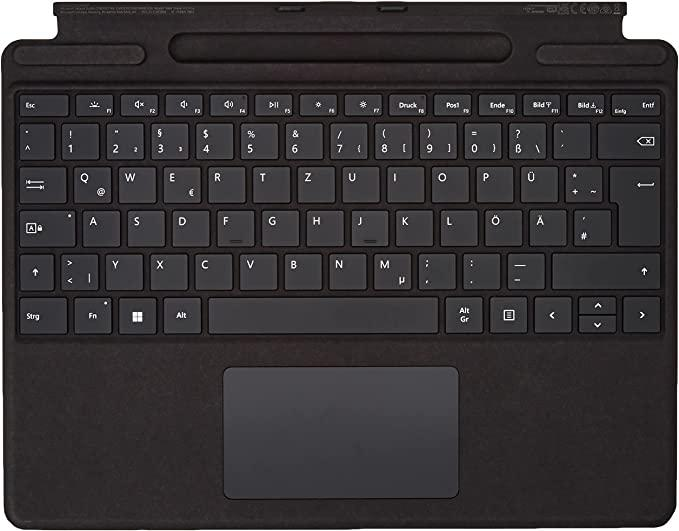0: (460, 119, 500, 159)
1: (62, 120, 102, 159)
2: (102, 119, 143, 159)
3: (147, 119, 187, 159)
4: (192, 119, 232, 158)
5: (236, 119, 276, 158)
6: (281, 119, 321, 158)
7: (327, 120, 366, 159)
8: (371, 119, 411, 158)
9: (416, 119, 456, 159)
a: (79, 207, 119, 246)
accent: (552, 120, 591, 159)
ae: (525, 206, 565, 245)
alt-left: (160, 294, 201, 333)
altgr-right: (442, 294, 483, 333)
b: (280, 249, 321, 289)
c: (191, 250, 231, 289)
caret: (20, 120, 56, 160)
comma: (414, 249, 454, 289)
d: (168, 207, 208, 246)
del: (595, 119, 661, 158)
e: (159, 163, 199, 203)
enter: (607, 162, 661, 247)
f: (213, 207, 253, 245)
g: (258, 207, 298, 245)
h: (306, 208, 345, 246)
hash: (570, 206, 610, 245)
i: (383, 162, 423, 201)
j: (348, 207, 386, 245)
k: (395, 209, 435, 248)
keyboard: (7, 77, 672, 346)
l: (440, 207, 479, 246)
less: (57, 250, 98, 290)
m: (369, 249, 410, 289)
minus: (504, 249, 544, 288)
n: (325, 250, 365, 289)
o: (430, 165, 470, 205)
oe: (481, 206, 521, 245)
p: (472, 162, 512, 201)
plus: (561, 162, 601, 202)
point: (459, 250, 499, 288)
q: (69, 163, 110, 203)
r: (204, 163, 244, 202)
s: (124, 207, 163, 246)
shift-left: (16, 250, 52, 290)
shift-lock: (15, 206, 75, 246)
shift-right: (549, 248, 660, 289)
space: (205, 293, 438, 334)
ss: (508, 121, 548, 160)
strg-left: (14, 293, 66, 334)
t: (249, 163, 289, 202)
tab: (16, 162, 65, 203)
u: (338, 163, 378, 202)
ue: (517, 162, 555, 202)
v: (236, 250, 276, 289)
w: (114, 162, 154, 202)
x: (147, 250, 187, 289)
y: (102, 250, 142, 289)
z: (294, 162, 334, 202)
